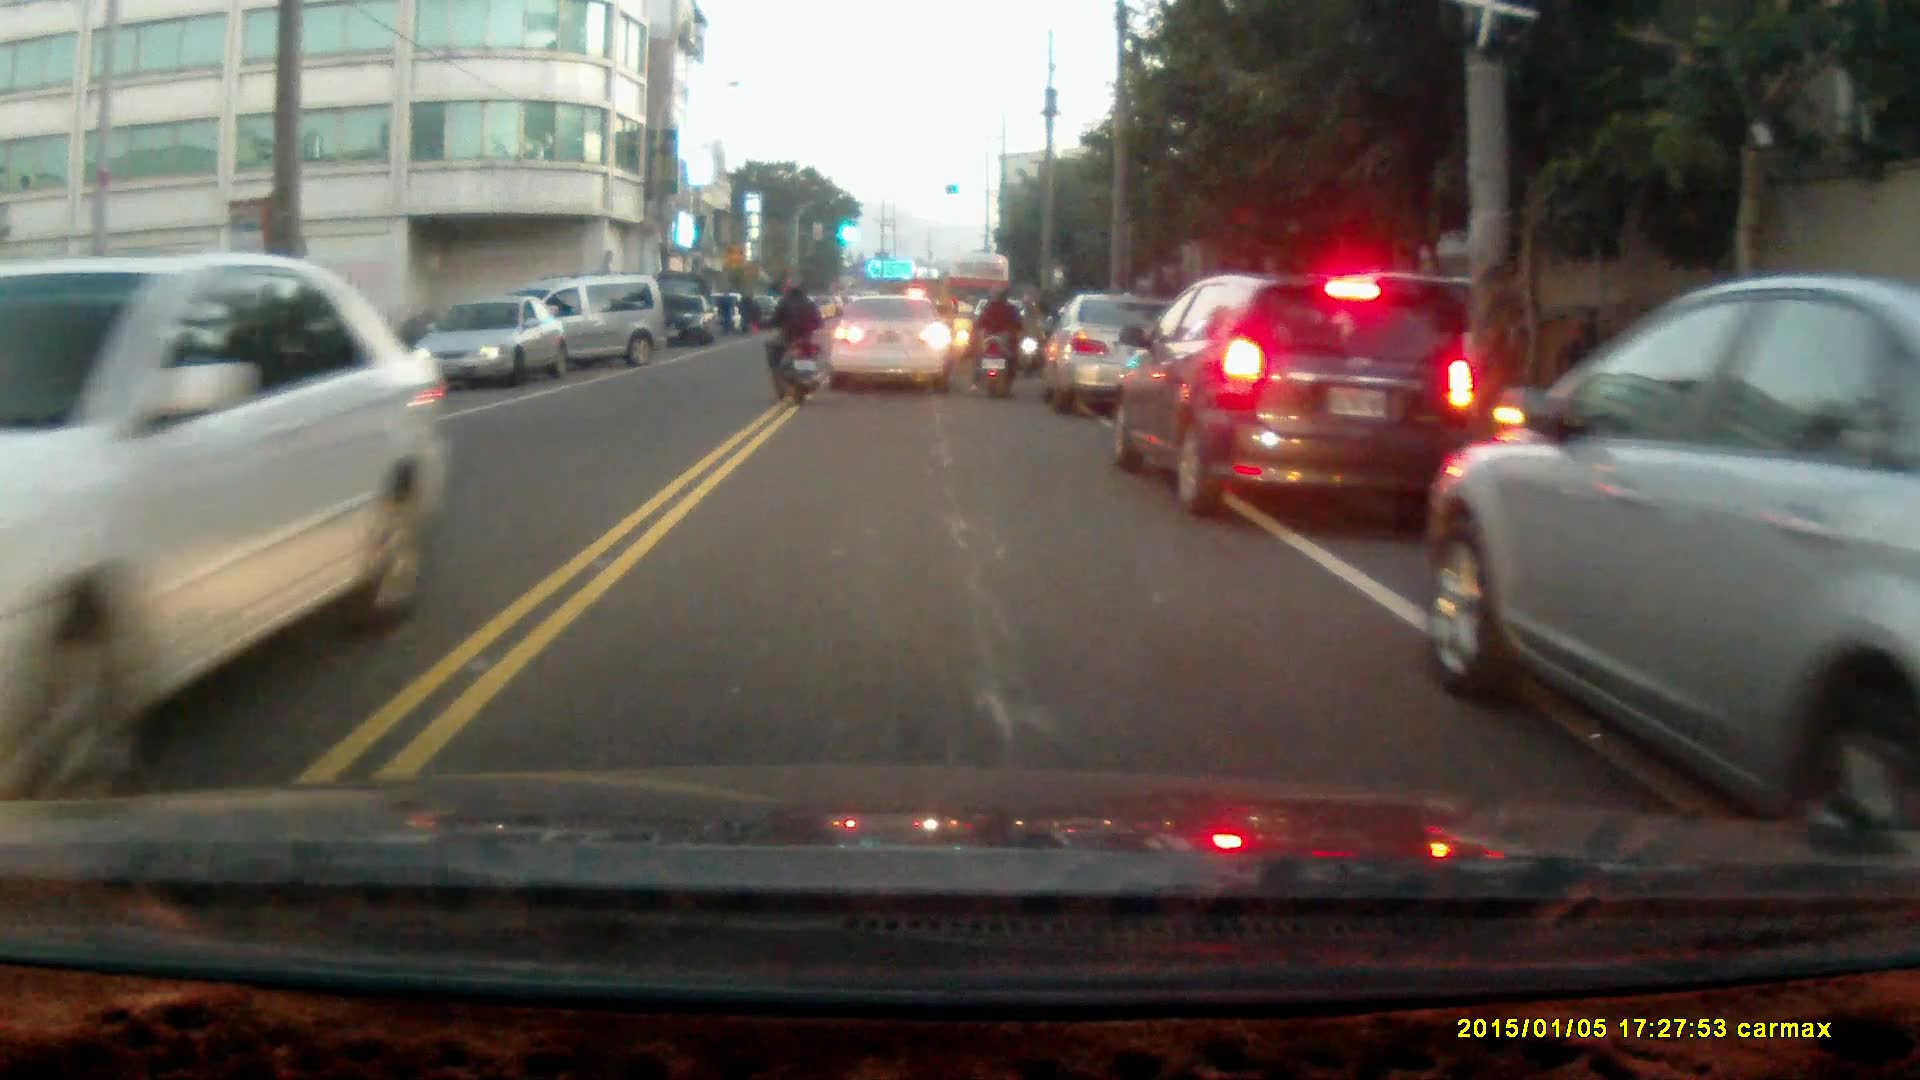rider: (762, 277, 823, 402), (968, 277, 1026, 399)
vehicle: (1426, 268, 1920, 847), (1, 258, 452, 814), (1103, 265, 1478, 516), (406, 289, 571, 389), (1045, 293, 1175, 414), (517, 271, 667, 371), (830, 289, 950, 397), (661, 292, 716, 345)
